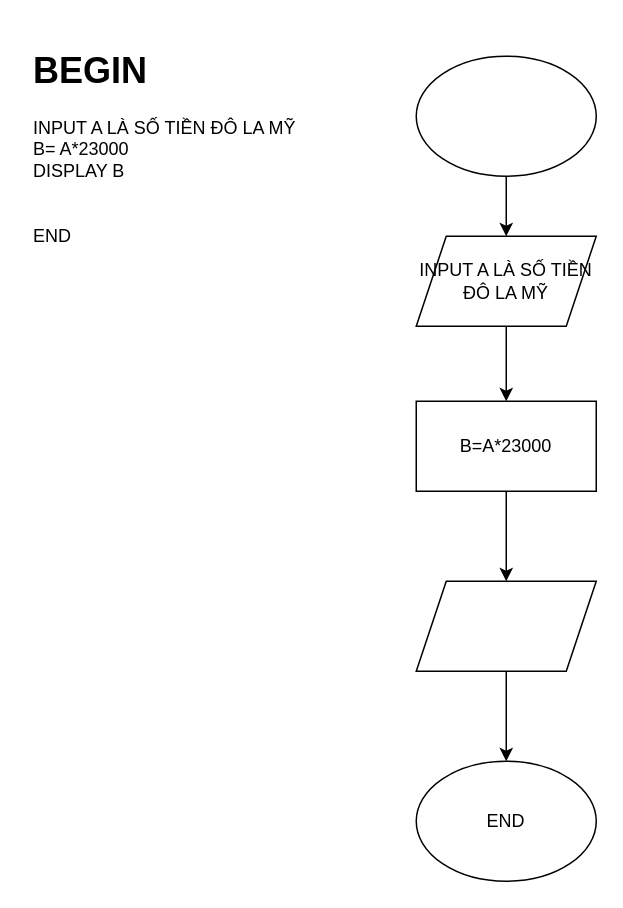
The diagram is 623 pixels wide and 908 high, and some of its shapes have lost their labels. Here are the shapes that lost their labels. From the top down, the box of each, then its label:
(415, 55, 596, 176): BEGIN
(415, 580, 596, 671): DISPLAY B
